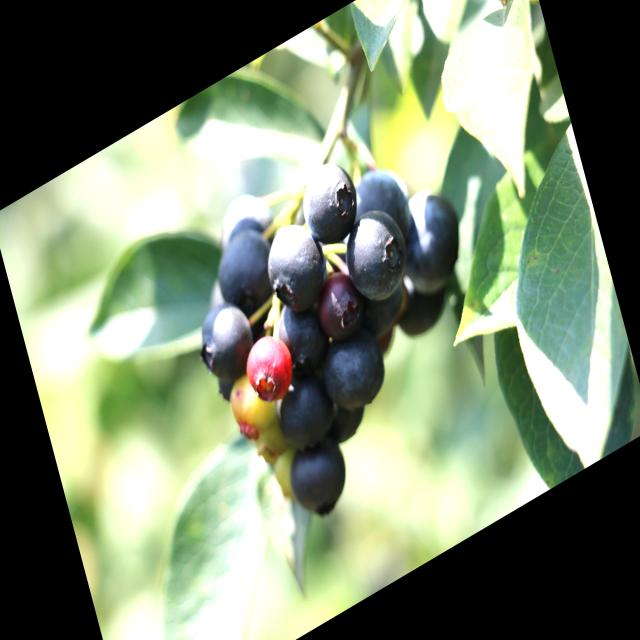blueberry: (389, 173, 471, 300), (338, 198, 413, 311), (318, 313, 392, 423), (262, 211, 330, 316), (213, 221, 283, 323), (283, 429, 352, 525), (346, 158, 414, 252), (296, 155, 362, 250), (270, 365, 335, 458), (270, 287, 332, 383), (195, 296, 255, 387), (315, 263, 370, 339)
blueberry-halfripe: (240, 320, 298, 411)
blueberry-unripe: (225, 362, 279, 448)
